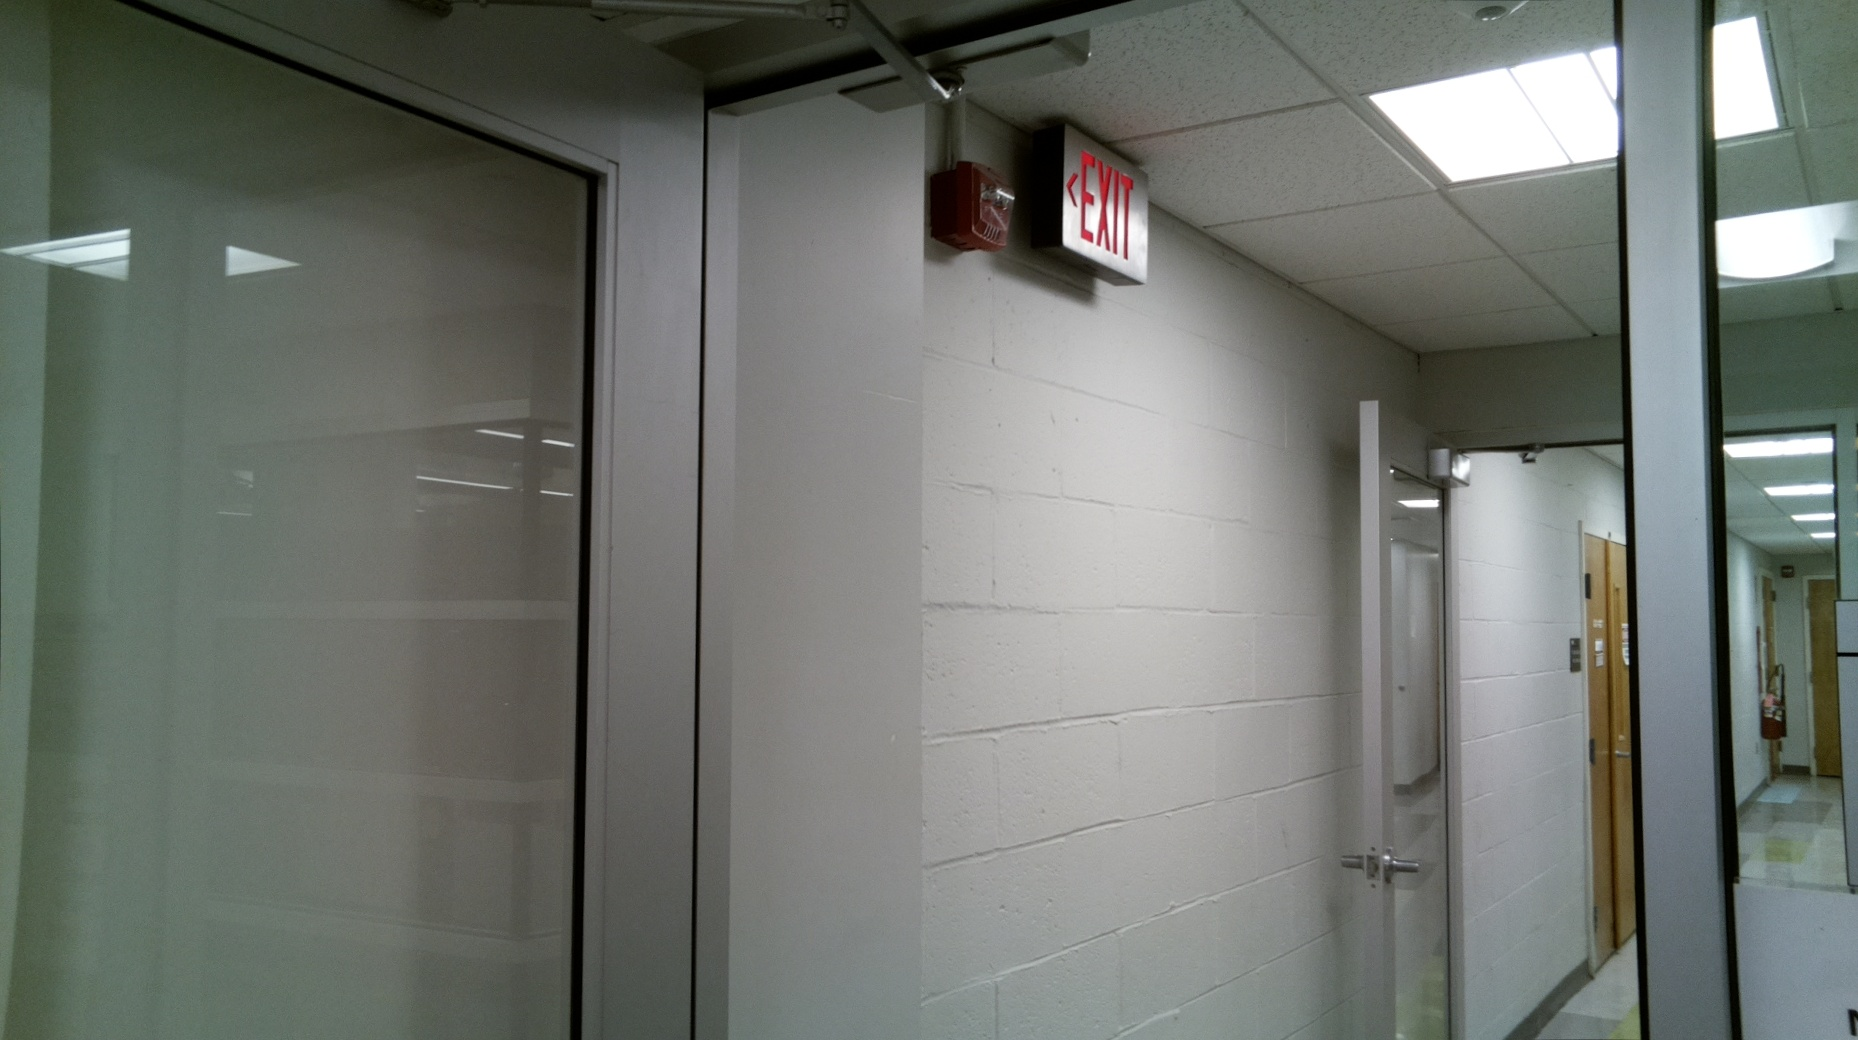exit sign: (1021, 112, 1163, 291)
